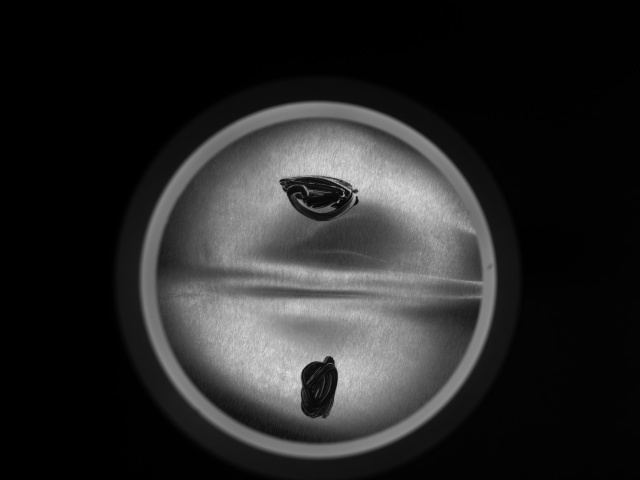zang_wu: (276, 175, 365, 224), (298, 353, 344, 418)
zhe_zhou: (198, 147, 441, 408)
